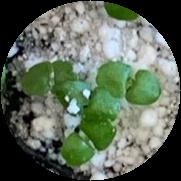Basil: (98, 59, 161, 106), (66, 121, 112, 166), (68, 80, 116, 121), (22, 62, 74, 96)
